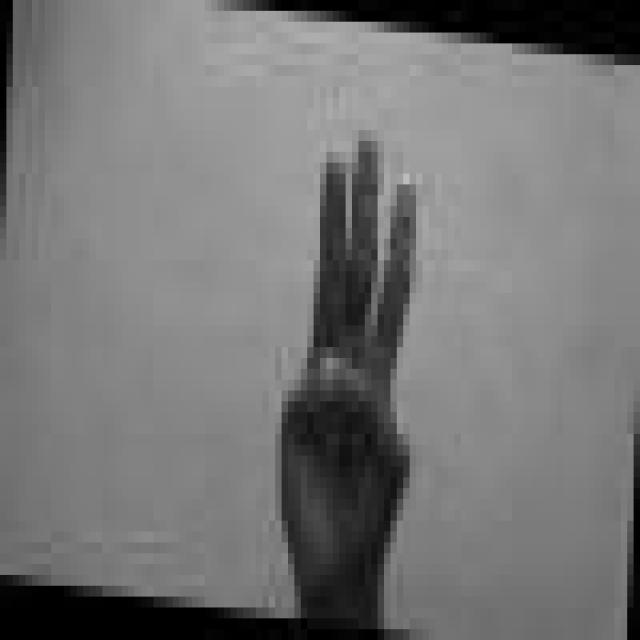W: (272, 130, 426, 608)
